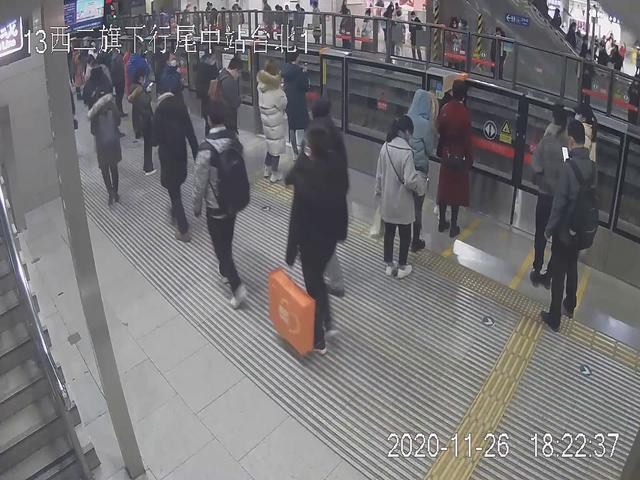person: (193, 101, 260, 308), (542, 121, 599, 330), (294, 129, 345, 351), (527, 100, 576, 294), (376, 114, 424, 278), (154, 81, 201, 247), (395, 83, 434, 248), (439, 73, 476, 237), (253, 58, 291, 186), (211, 56, 249, 177), (88, 79, 122, 210), (126, 67, 160, 176)
